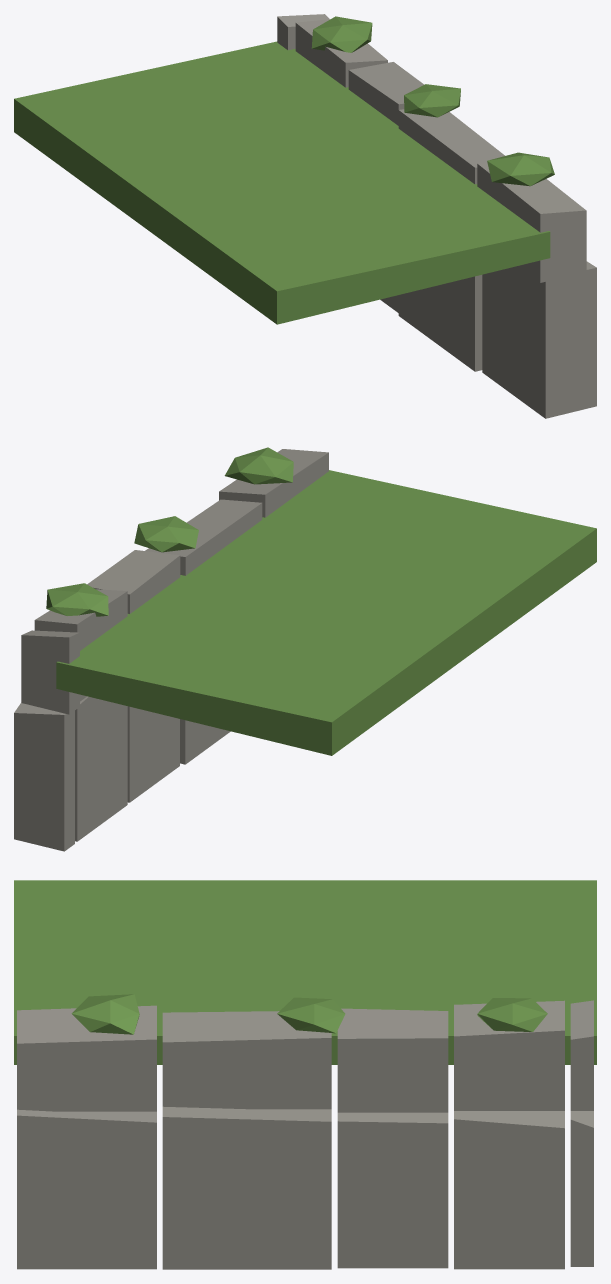
The model's file is canal_edge.fbx.
The picture shows the model from 3 angles, top to bottom: view 1: azimuth 30°, elevation 25°; view 2: azimuth 150°, elevation 25°; view 3: azimuth 270°, elevation 25°; orthographic projection. The views are drawn at different scales.
Visible parts, largest first — view 1: A_Edge_Moss, A_Edge_Stone; view 2: A_Edge_Moss, A_Edge_Stone; view 3: A_Edge_Stone, A_Edge_Moss.
Part boxes in pixels (x1,y1,x2,y2): A_Edge_Moss: [14, 16, 554, 324]; A_Edge_Stone: [277, 14, 596, 418]; A_Edge_Moss: [46, 447, 596, 755]; A_Edge_Stone: [14, 449, 328, 851]; A_Edge_Stone: [17, 1000, 593, 1269]; A_Edge_Moss: [14, 880, 596, 1064].
Size of the model in its own units: 5.66 by 3.82 by 8.
